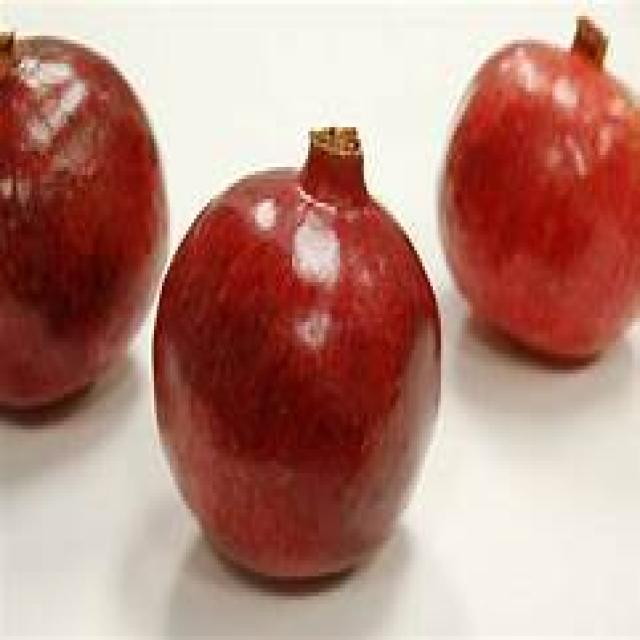Pomegranate: (152, 125, 443, 587), (440, 11, 640, 367), (0, 29, 170, 416)
